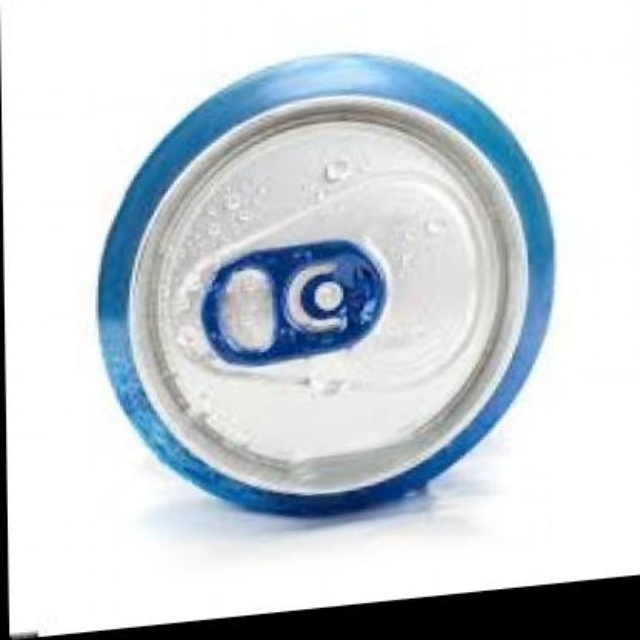trash: (98, 54, 552, 514)
